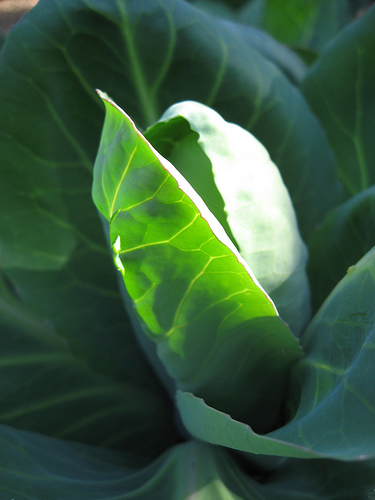cabbage: (0, 0, 373, 498)
